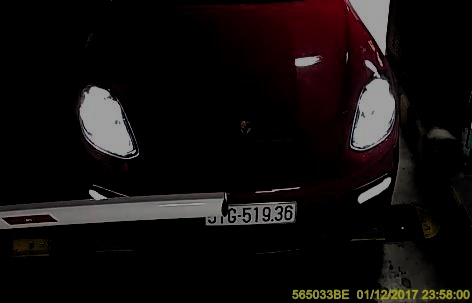plate: (203, 197, 296, 227)
